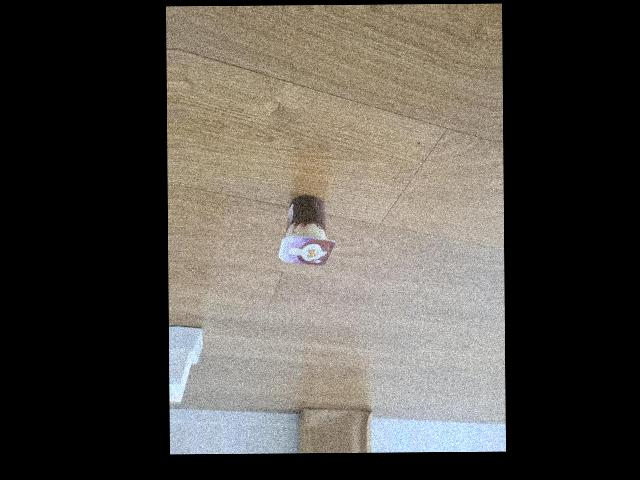milky: (278, 188, 335, 265)
